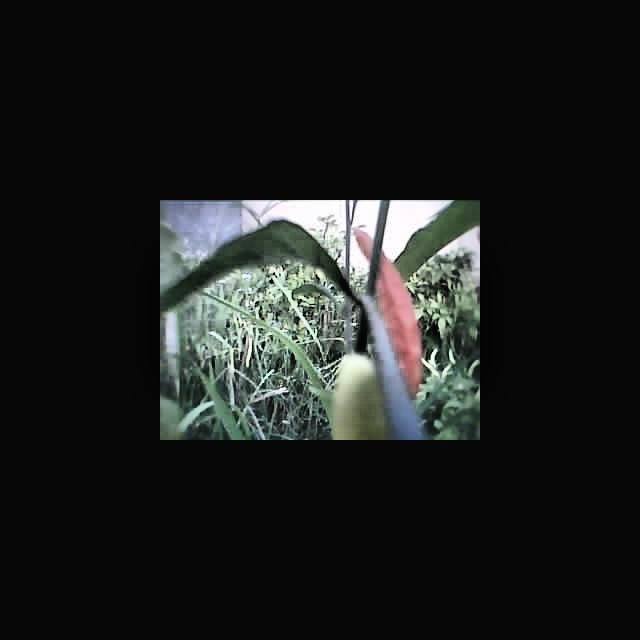Cabai: (359, 232, 427, 395)
